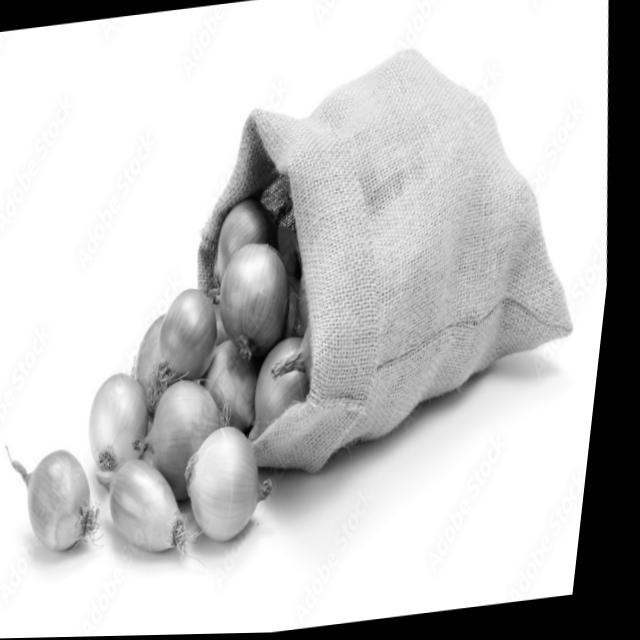sack: (163, 26, 620, 489)
